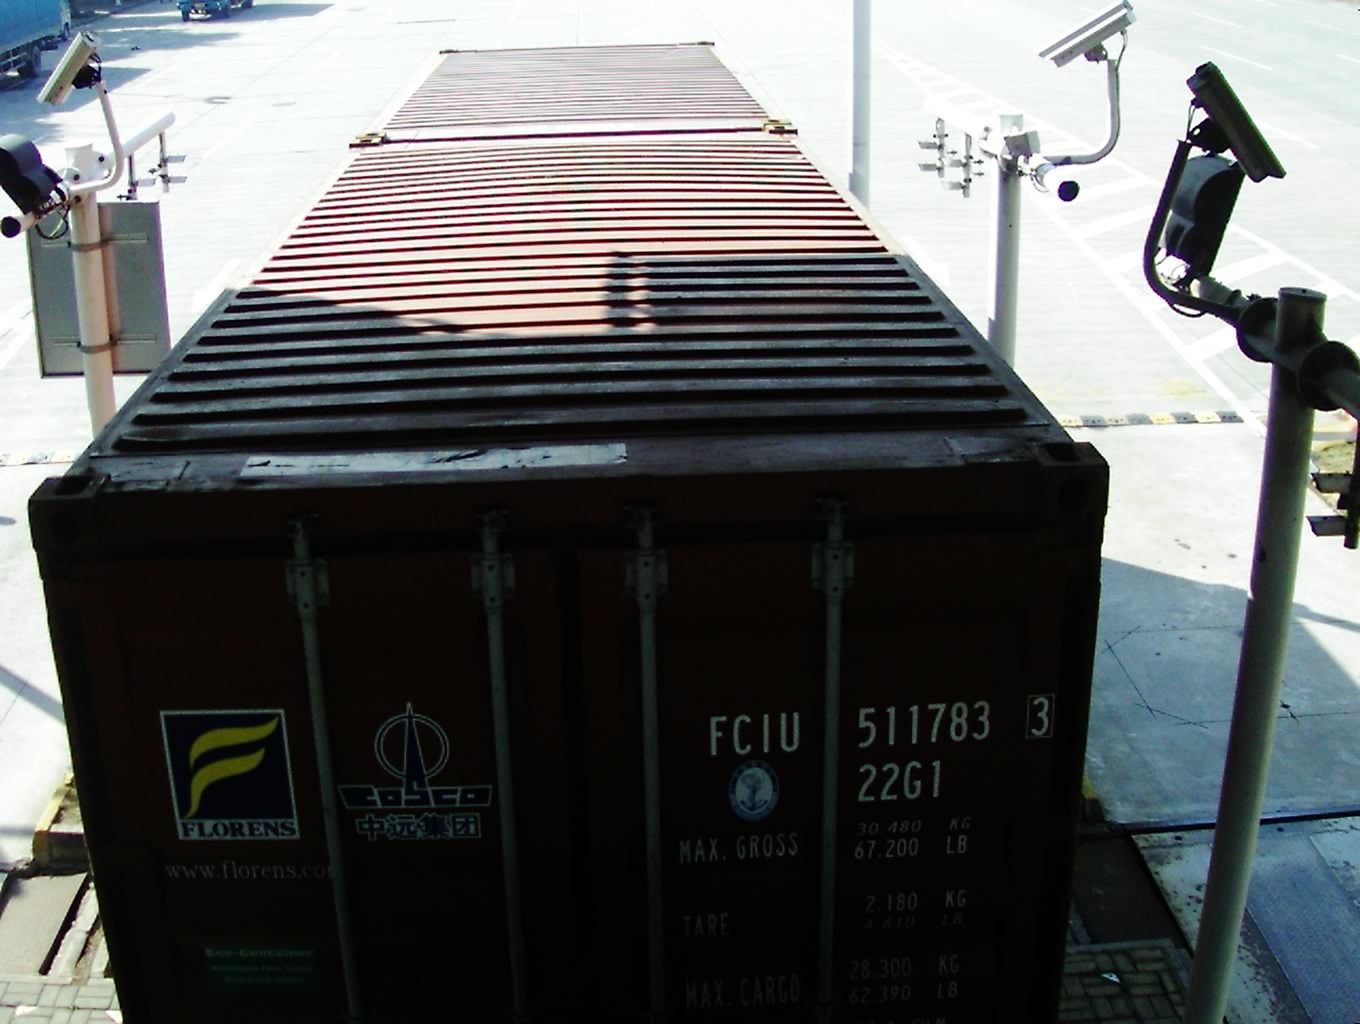words: (700, 692, 1063, 759), (844, 754, 954, 812)
